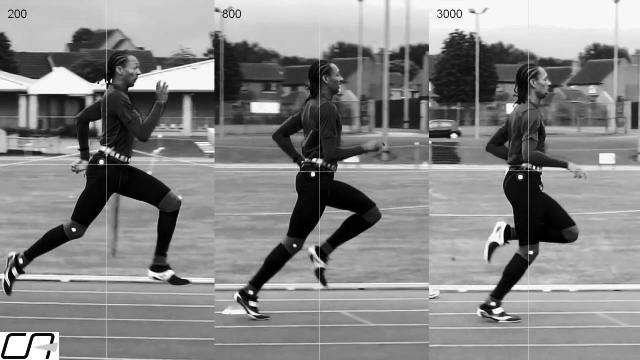berlari: (2, 44, 202, 300), (231, 40, 391, 324), (474, 56, 584, 322)
